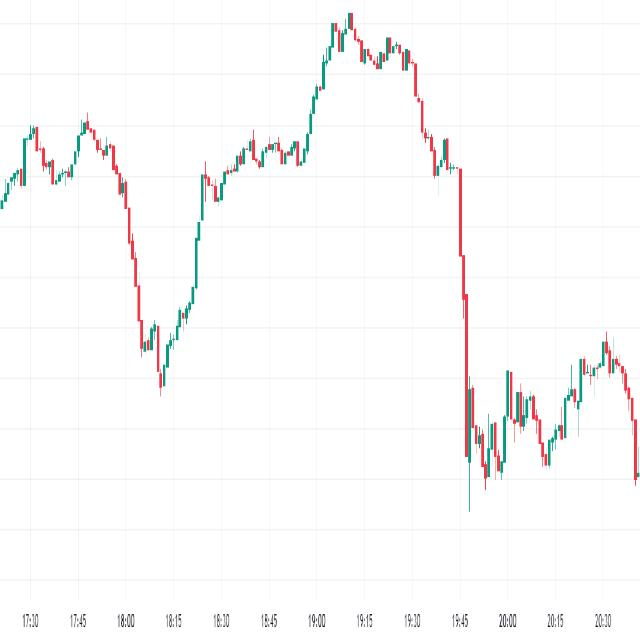Double-Bottom: (475, 404, 512, 501)
rectangle: (234, 126, 302, 181)
